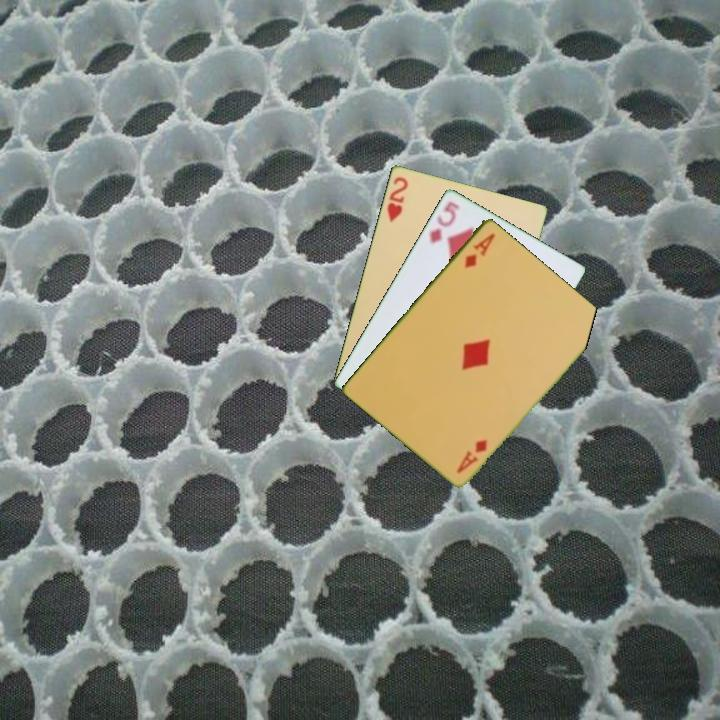2h: (383, 173, 411, 225)
5d: (426, 197, 463, 246)
Ad: (461, 229, 498, 271), (453, 435, 490, 476)
